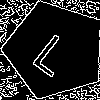L: (30, 25, 82, 78)
